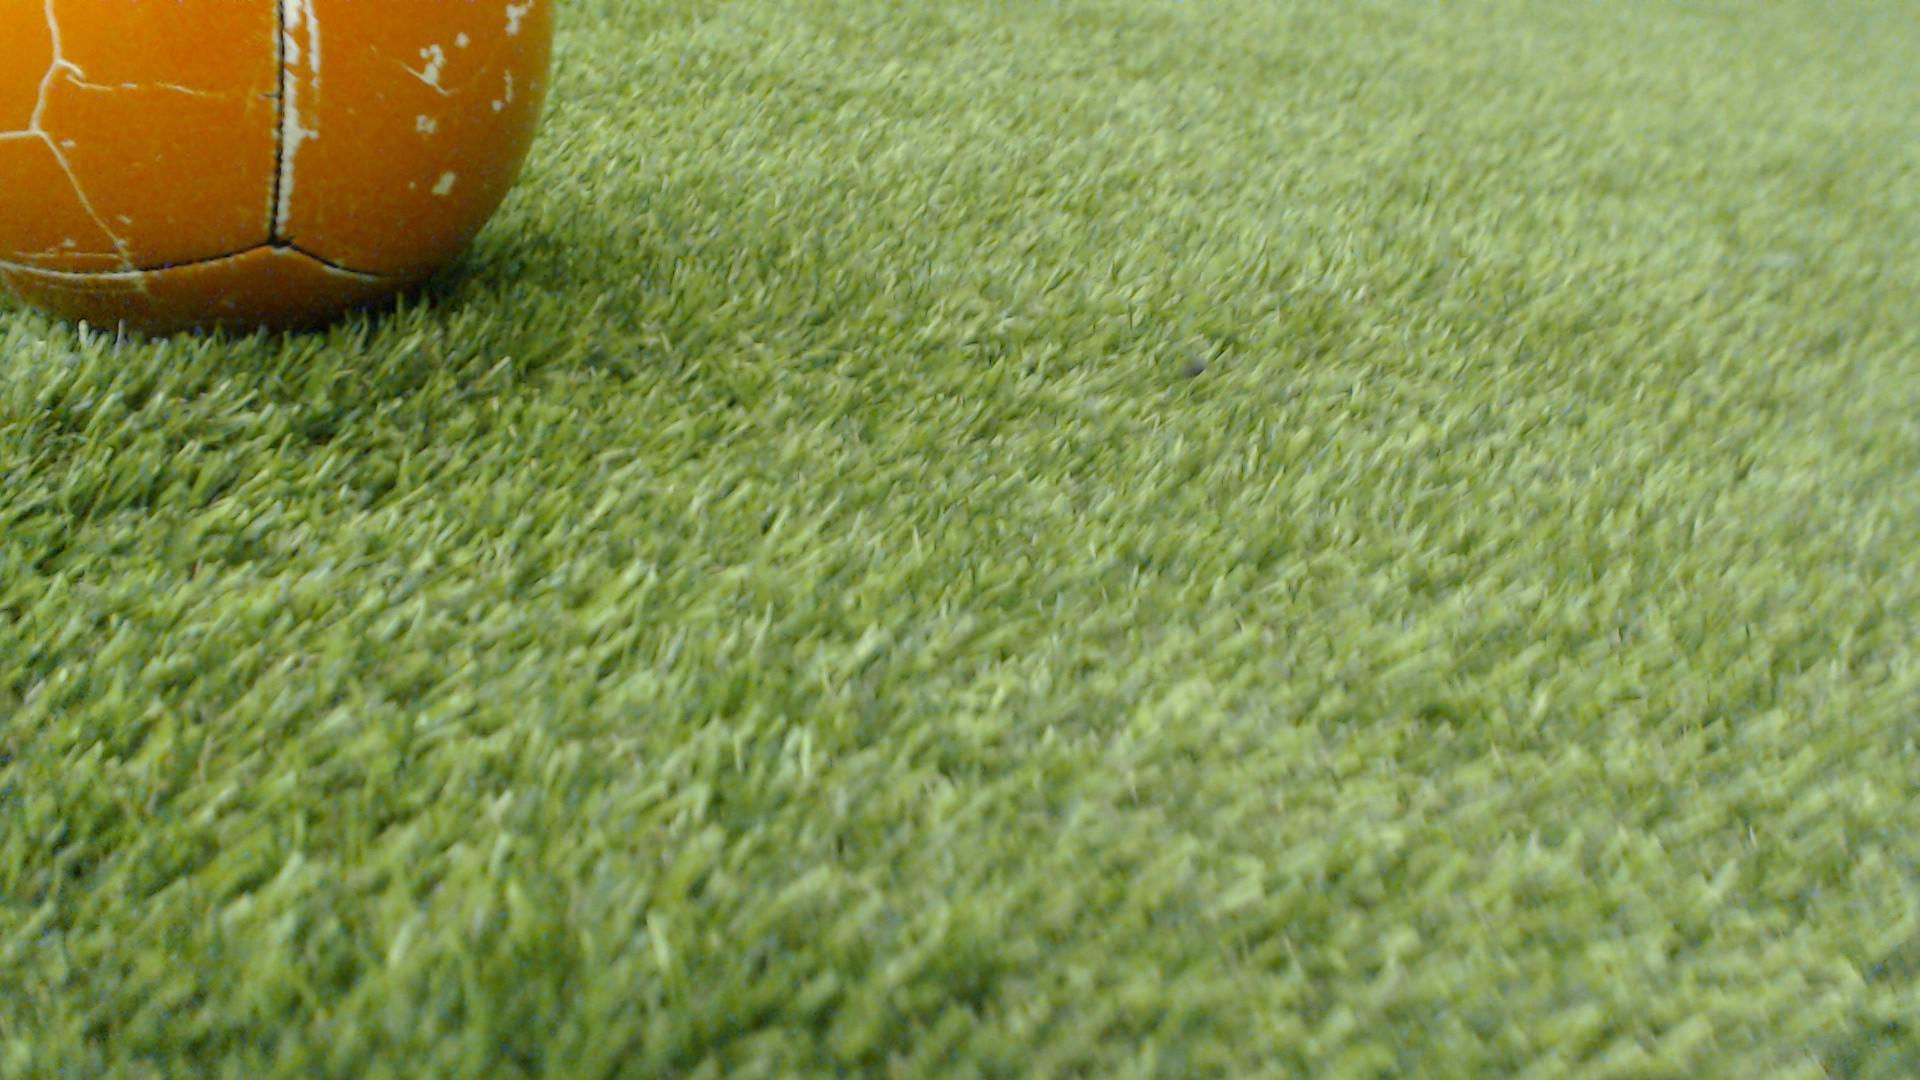bola: (0, 0, 599, 386)
